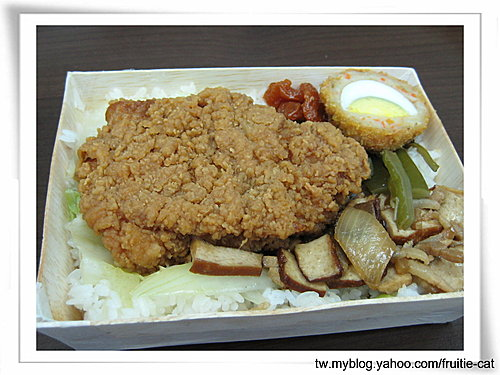fried_chicken: (108, 108, 331, 244)
